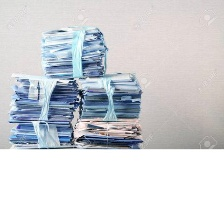book: (73, 67, 148, 154), (5, 69, 80, 150), (34, 22, 108, 80)
